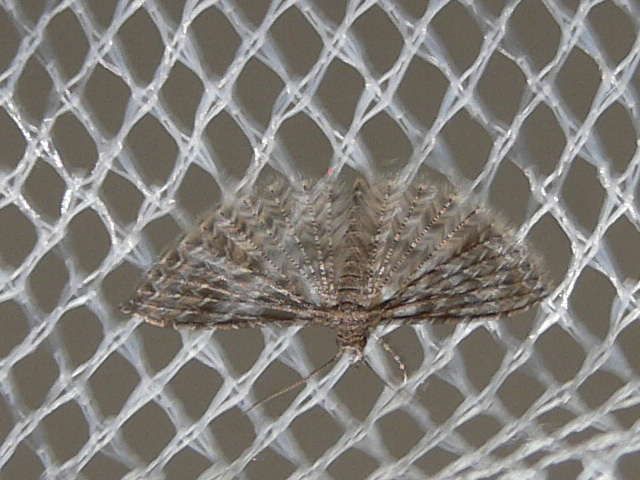Alucitidae: (122, 151, 557, 407)
moth: (124, 153, 559, 409)
